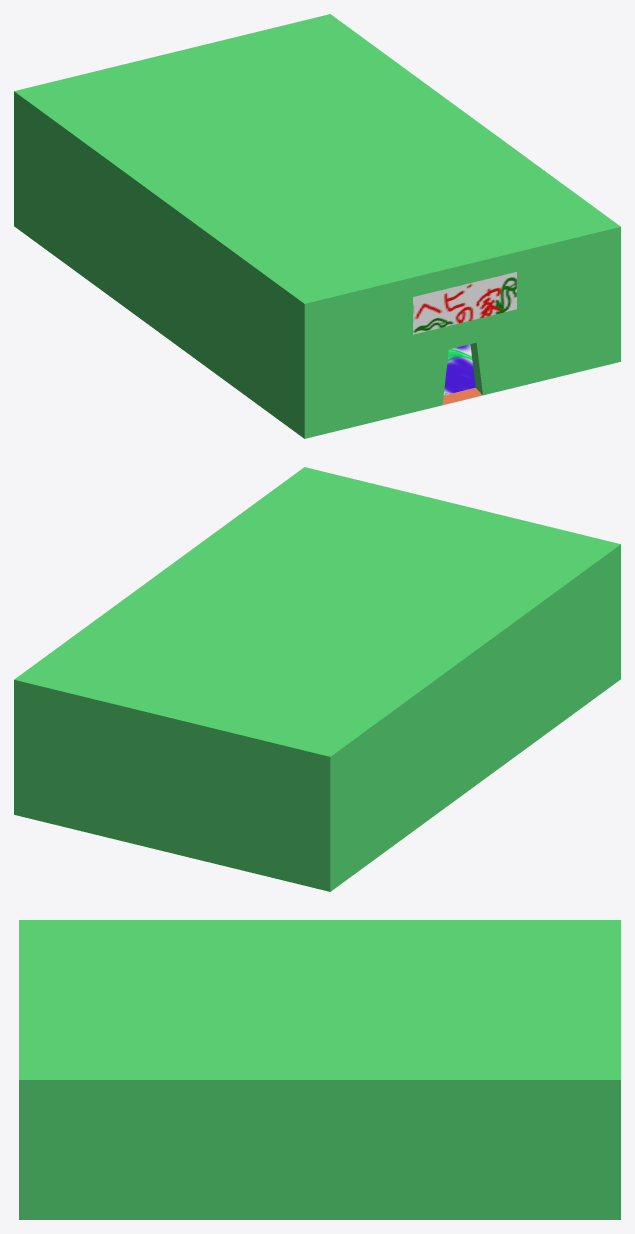
File: house.gltf
The picture shows the model from 3 angles, top to bottom: view 1: azimuth 30°, elevation 25°; view 2: azimuth 150°, elevation 25°; view 3: azimuth 270°, elevation 25°; orthographic projection. The views are drawn at different scales.
Visible parts, largest first — view 1: Plane, Plane.001; view 2: Plane; view 3: Plane.
Part boxes in pixels (x1=…): Plane: x1=14, y1=14, x2=620, y2=438; Plane.001: x1=413, y1=272, x2=516, y2=334; Plane: x1=14, y1=467, x2=620, y2=891; Plane: x1=19, y1=920, x2=620, y2=1219.
Bounding box in the file's own units: 13.82 × 5.64 × 22.17.
4 materials, 2 textured.
